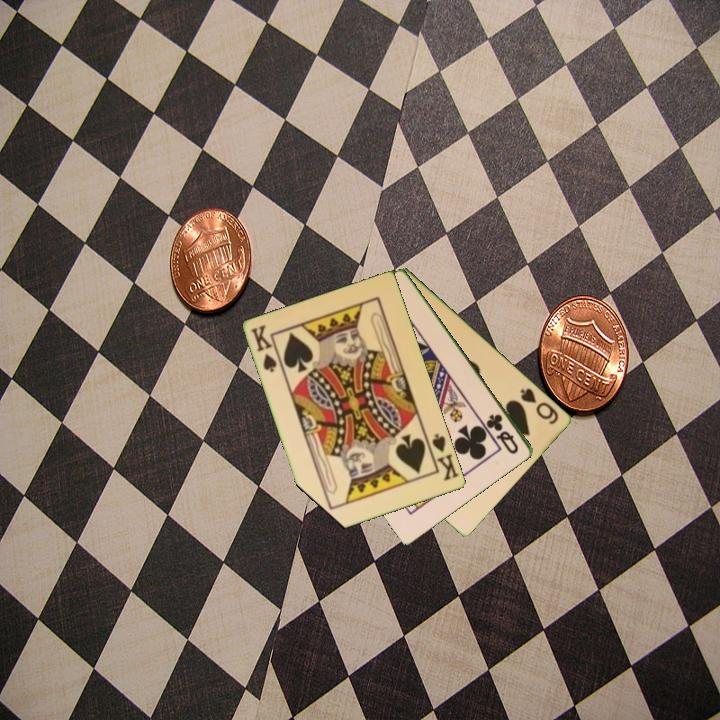6s: (517, 384, 562, 427)
Ks: (429, 430, 462, 484), (247, 321, 280, 375)
Qc: (483, 410, 522, 457)
